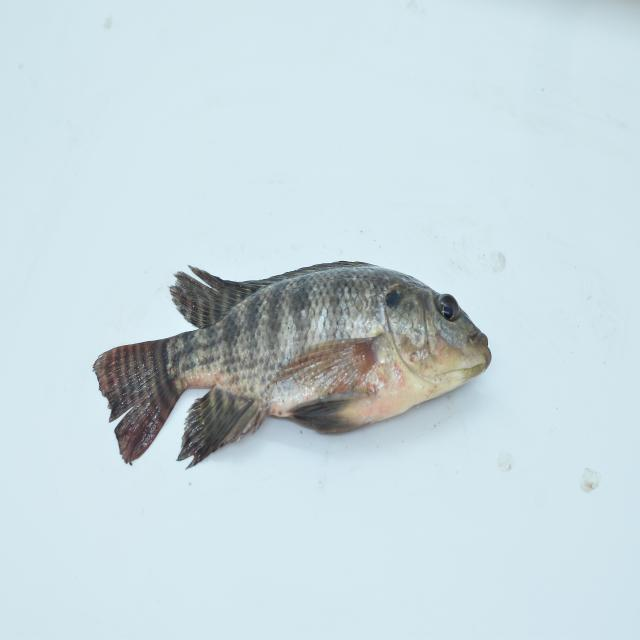Columnaris Disease: (89, 227, 500, 493)
